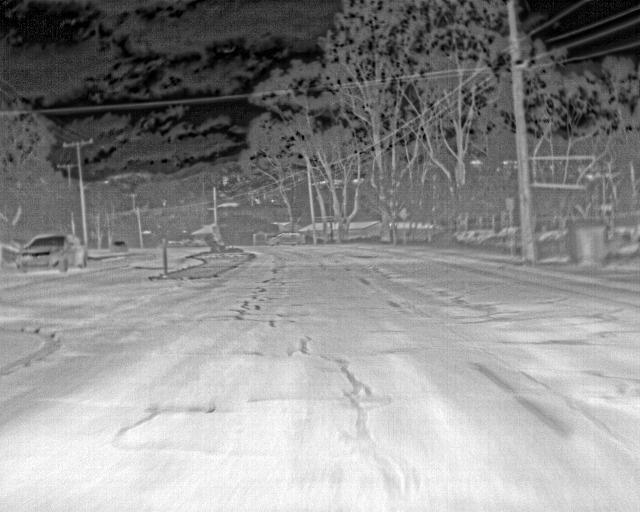car: (16, 232, 88, 274), (268, 232, 303, 246), (464, 229, 492, 245), (109, 239, 127, 254), (457, 230, 469, 242)
